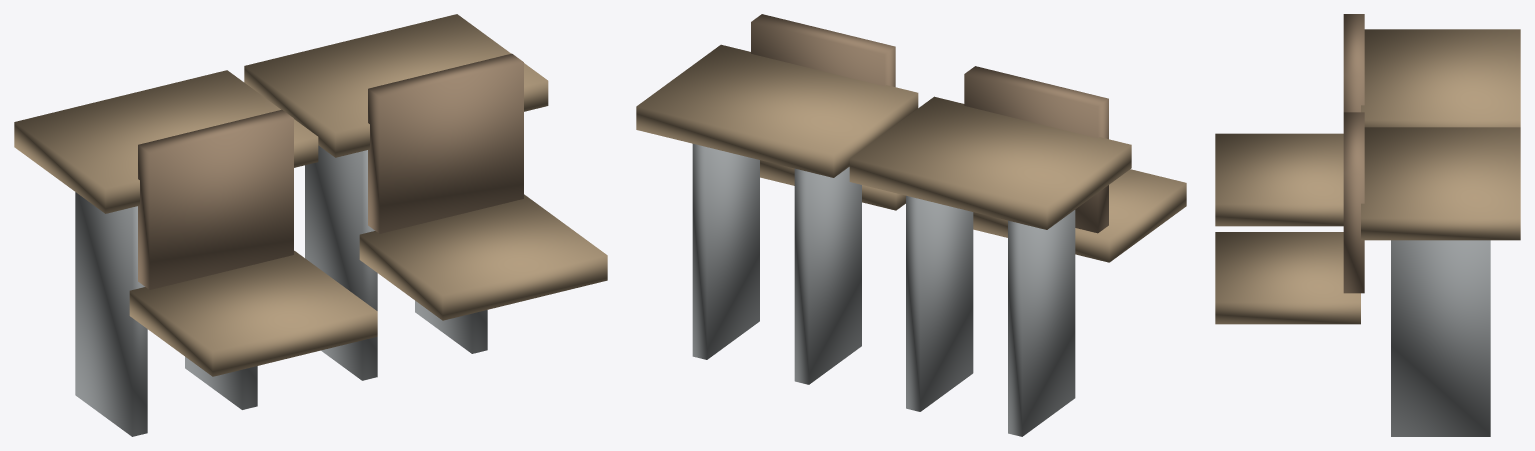
The model's file is classroom_desk__cluster.glb.
3 views of the same model, side by side, from view 1: azimuth 30°, elevation 25°; view 2: azimuth 150°, elevation 25°; view 3: azimuth 270°, elevation 25° (orthographic). The views are drawn at different scales.
Visible parts, largest first — view 1: world; view 2: world; view 3: world.
Part boxes in pixels (x1,y1,x2,y2): world: [14, 14, 607, 436]; world: [636, 14, 1186, 436]; world: [1215, 14, 1520, 436].
Bounding box in the file's own units: 1.29 × 0.85 × 0.88.
